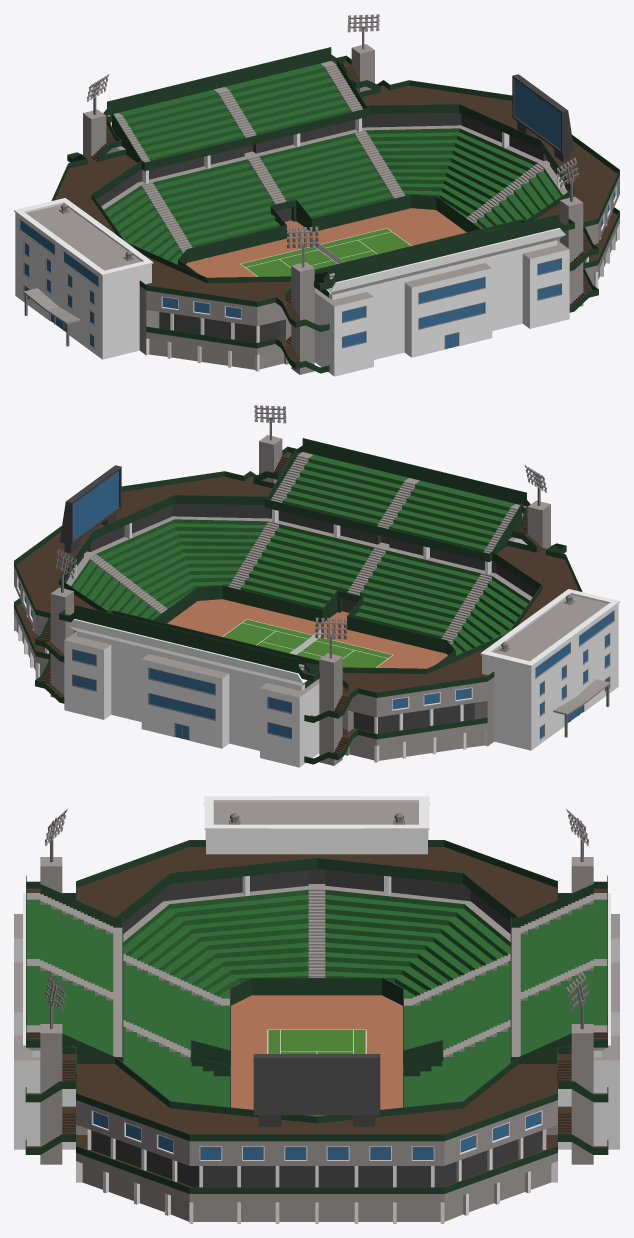
File: building-stadium.glb
The picture shows the model from 3 angles, top to bottom: view 1: azimuth 30°, elevation 25°; view 2: azimuth 150°, elevation 25°; view 3: azimuth 270°, elevation 25°; orthographic projection. The views are drawn at different scales.
Visible parts, largest first — view 1: building-stadium; view 2: building-stadium; view 3: building-stadium.
Part boxes in pixels (box(x1,y1,x2,y2)): building-stadium: box(14, 14, 619, 376); building-stadium: box(14, 405, 619, 767); building-stadium: box(14, 796, 619, 1223).
Bounding box in the file's own units: 84.77 × 21.59 × 66.49.
